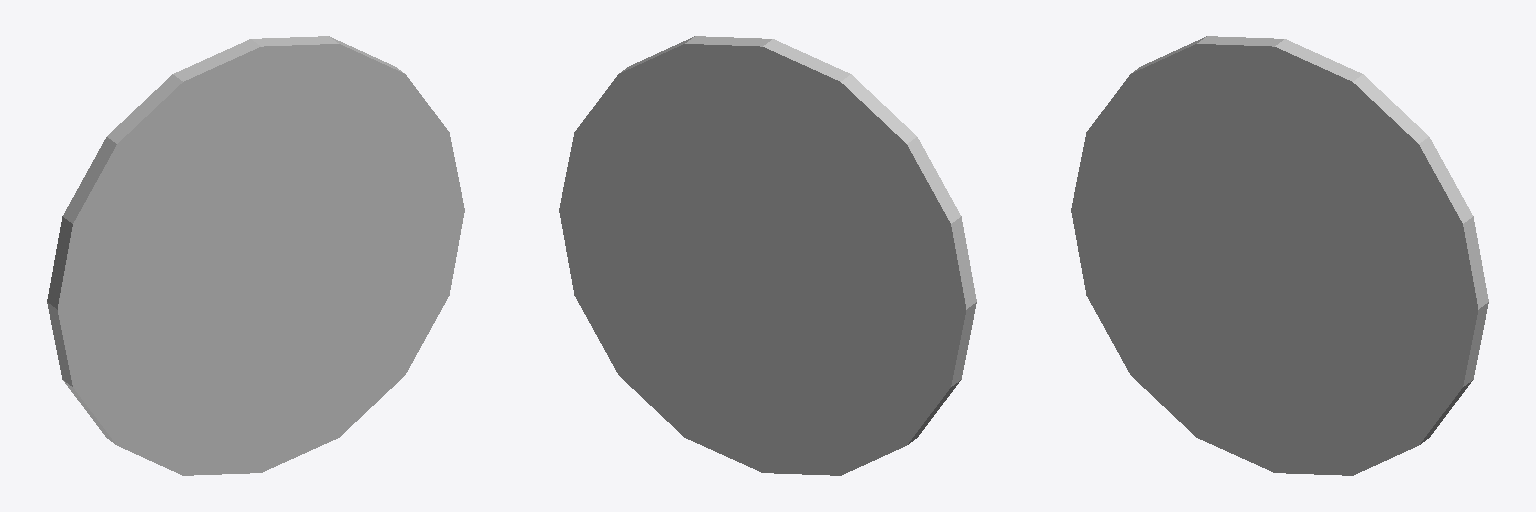
File: schild verbot & gebot.obj
The picture shows the model from 3 angles: view 1: azimuth 30°, elevation 25°; view 2: azimuth 150°, elevation 25°; view 3: azimuth 330°, elevation 25°; orthographic projection.
Bounding box in the file's own units: 0.592 × 0.592 × 0.0264.